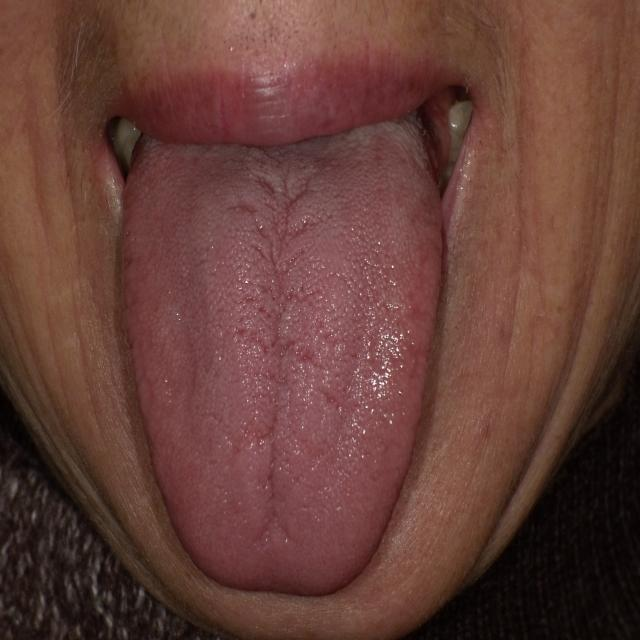baitaishe: (121, 112, 443, 594)
chihenshe: (227, 172, 324, 543)
